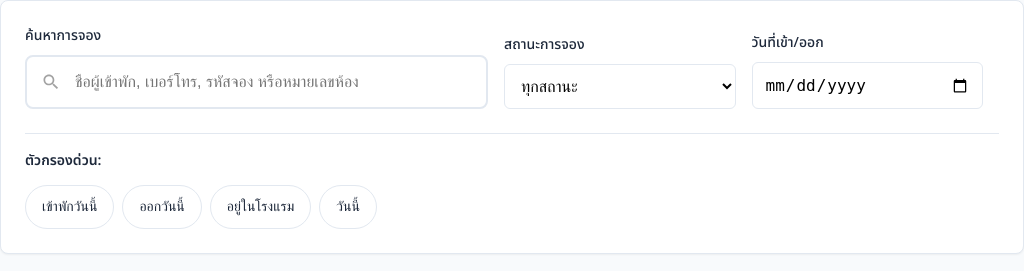
Test: BookingSearch Component › Search Input › clears search term when clear button is clicked
Type "test" into the field labelled "ค้นหาการจอง".
click(256, 82); type("test")  # box [25,55,488,109]
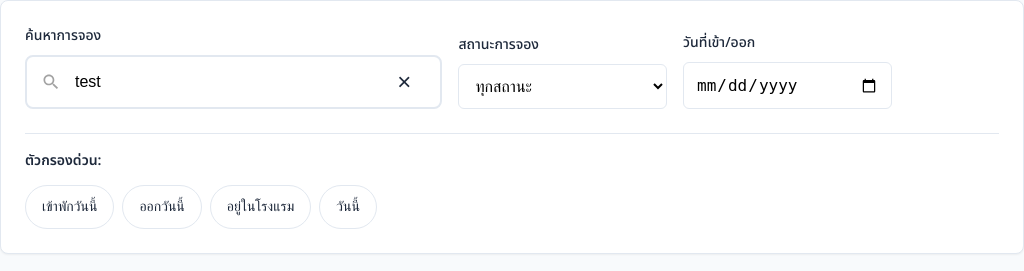
Click the button named "ล้างคำค้นหา".
click(404, 82)  # box [382,60,426,104]
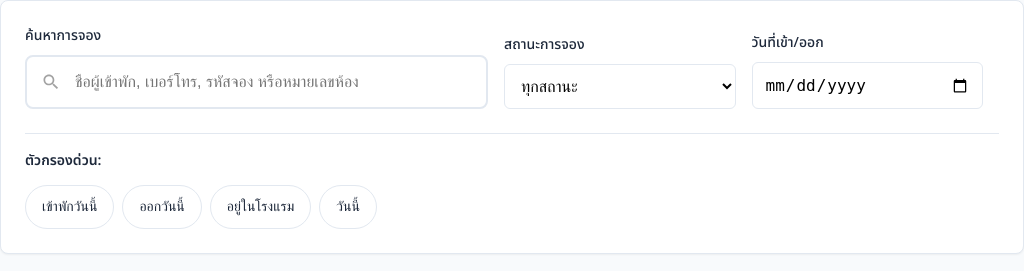
expect the field labelled "ค้นหาการจอง" is empty: met, box [25,55,488,109]
